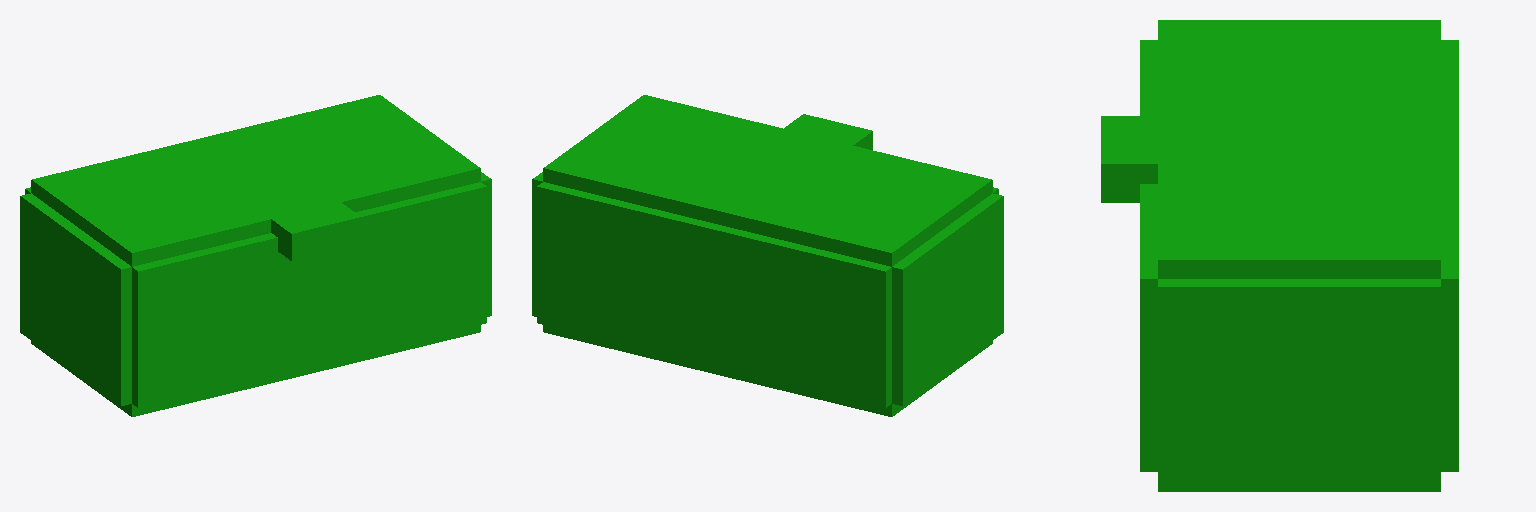
robot.urdf — box:
<?xml version="1.0"?>
<robot name="box">
  <link name="world"/>

  <joint name="fixed" type="fixed">
    <parent link="world"/>
    <child link="base_link"/>
    <origin xyz="0 0 0"/>
  </joint>

  <link name="base_link">
    <contact>
      <lateral_friction value="1.0"/>
      <spinning_friction value=".001"/>
    </contact>
    <inertial>
      <origin rpy="0 0 0" xyz="0 0 0"/>
      <mass value="0.0"/>
      <inertia ixx="1" ixy="0" ixz="0" iyy="1" iyz="0" izz="1"/>
    </inertial>
    <visual>
      <origin rpy="0 0 0" xyz="0.0 0.0 -0.075"/>
      <geometry>
        <box size="0.40 0.20 0.03"/>
      </geometry>
      <material name="blockmat">
        <color rgba="0.1 0.7 0.1 1"/>
      </material>
    </visual>
    <collision>
      <origin rpy="0 0 0" xyz="0.0 0.0 -0.075"/>
      <geometry>
        <box size="0.40 0.20 0.03"/>
      </geometry>
    </collision>
    <visual>
      <origin rpy="0 0 0" xyz="0.0 -0.1 0.0"/>
      <geometry>
        <box size="0.40 0.025 0.15"/>
      </geometry>
      <material name="blockmat">
        <color rgba="0.1 0.7 0.1 1"/>
      </material>
    </visual>
    <collision>
      <origin rpy="0 0 0" xyz="0.0 -0.1 0.0"/>
      <geometry>
        <box size="0.40 0.025 0.15"/>
      </geometry>
    </collision>
    <visual>
      <origin rpy="0 0 1.570796" xyz="0.2 0.0 0.0"/>
      <geometry>
        <box size="0.20 0.025 0.15"/>
      </geometry>
      <material name="blockmat">
        <color rgba="0.1 0.7 0.1 1"/>
      </material>
    </visual>
    <collision>
      <origin rpy="0 0 1.570796" xyz="0.2 0.0 0.0"/>
      <geometry>
        <box size="0.20 0.025 0.15"/>
      </geometry>
    </collision>
    <visual>
      <origin rpy="0 0 0" xyz="0.0 0.1 0.0"/>
      <geometry>
        <box size="0.40 0.025 0.15"/>
      </geometry>
      <material name="blockmat">
        <color rgba="0.1 0.7 0.1 1"/>
      </material>
    </visual>
    <collision>
      <origin rpy="0 0 0" xyz="0.0 0.1 0.0"/>
      <geometry>
        <box size="0.40 0.025 0.15"/>
      </geometry>
    </collision>
    <visual>
      <origin rpy="0 0 1.570796" xyz="-0.2 0.0 0.0"/>
      <geometry>
        <box size="0.20 0.025 0.15"/>
      </geometry>
      <material name="blockmat">
        <color rgba="0.1 0.7 0.1 1"/>
      </material>
    </visual>
    <collision>
      <origin rpy="0 0 1.570796" xyz="-0.2 0.0 0.0"/>
      <geometry>
        <box size="0.20 0.025 0.15"/>
      </geometry>
    </collision>
  </link>

  <joint name="joint_baselink_coverlink" type="continuous">
    <parent link="base_link"/>
    <child link="cover_link"/>
    <dynamics damping="1.0" friction="0.0001"/>
    <origin xyz="0 0.1 0.075"/>
    <axis xyz="-1 0 0"/>
    <limit lower="0.0" upper="1.570796"/>
  </joint>

  <link name="cover_link">
    <contact>
      <lateral_friction value="100.0"/>
      <spinning_friction value=".001"/>
    </contact>
    <inertial>
      <origin rpy="0 0 0" xyz="0 -0.1 0"/>
      <mass value="0.0002"/>
      <inertia ixx="1" ixy="0" ixz="0" iyy="1" iyz="0" izz="1"/>
    </inertial>
    <visual>
      <origin rpy="0 0 0" xyz="0.0 -0.1 0.0"/>
      <geometry>
        <box size="0.40 0.20 0.03"/>
      </geometry>
      <material name="blockmat">
        <color rgba="0.1 0.7 0.1 1"/>
      </material>
    </visual>
    <collision>
      <origin rpy="0 0 0" xyz="0.0 -0.1 0.0"/>
      <geometry>
        <box size="0.40 0.20 0.03"/>
      </geometry>
    </collision>
    <visual>
      <origin rpy="0 0 0" xyz="0.0 -0.2 0.0"/>
      <geometry>
        <box size="0.08 0.08 0.03"/>
      </geometry>
      <material name="blockmat">
        <color rgba="0.1 0.7 0.1 1"/>
      </material>
    </visual>
    <collision>
      <origin rpy="0 0 0" xyz="0.0 -0.2 0.0"/>
      <geometry>
        <box size="0.08 0.08 0.03"/>
      </geometry>
    </collision>
  </link>
</robot>

--- Facts derived from the render (not from the file) ---
Views: 3 orthographic renders of the robot side by side, from view 1: azimuth 30°, elevation 25°; view 2: azimuth 150°, elevation 25°; view 3: azimuth 270°, elevation 25°.
Robot: box — 3 links, 2 joints (1 continuous, 1 fixed); root link world; default pose: every joint at zero.
Visible links, largest first — view 1: base_link, cover_link; view 2: base_link, cover_link; view 3: cover_link, base_link.
Link boxes in pixels (x1=…): base_link: x1=20, y1=172, x2=491, y2=416; cover_link: x1=31, y1=95, x2=480, y2=266; base_link: x1=532, y1=172, x2=1003, y2=416; cover_link: x1=543, y1=95, x2=992, y2=266; cover_link: x1=1101, y1=20, x2=1440, y2=278; base_link: x1=1140, y1=40, x2=1458, y2=491.
Bounding box of the posed robot: 0.425 × 0.2525 × 0.18 m (x, y, z).
Geometry: primitives only (box / cylinder / sphere), no mesh files.